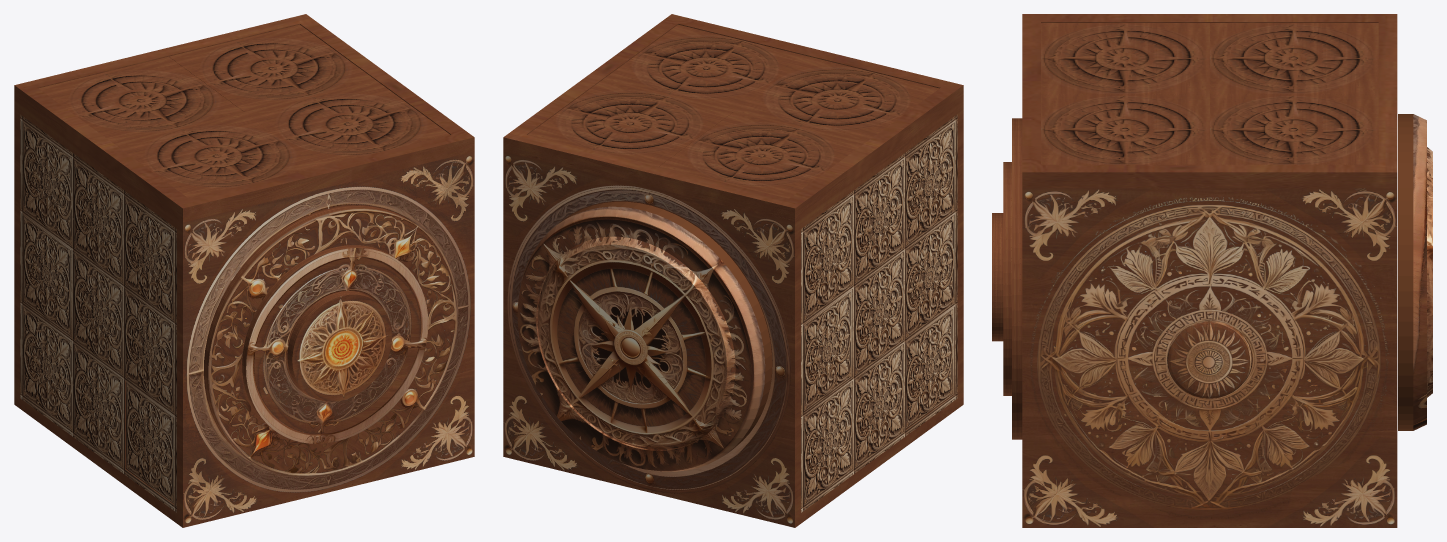
3 renders of one model, left to right at view 1: azimuth 30°, elevation 25°; view 2: azimuth 150°, elevation 25°; view 3: azimuth 270°, elevation 25°, orthographic. The views are drawn at different scales.
Visible parts, largest first — view 1: box, open31, open32, box1, exit11, exit21, exit31, exit41, open33, open41, open4; view 2: box, open_2, box1, exit31, exit41, exit11, exit21, open41, open4; view 3: box, box1, exit21, exit41, exit11, exit31, open_2, key_1, open31, open32, open33.
Boxes of the visible parts, box(x1,y1,x2,y2) form: box: box(14, 99, 474, 527); open31: box(203, 205, 458, 477); open32: box(242, 245, 428, 443); box1: box(14, 14, 474, 223); exit11: box(169, 24, 374, 111); exit21: box(38, 56, 243, 143); exit31: box(245, 80, 450, 166); exit41: box(114, 112, 318, 198); open33: box(287, 291, 392, 401); open41: box(23, 214, 71, 337); open4: box(125, 381, 173, 503); box: box(503, 100, 963, 527); open_2: box(517, 201, 772, 471); box1: box(503, 14, 963, 223); exit31: box(603, 24, 808, 111); exit41: box(734, 56, 939, 143); exit11: box(527, 80, 732, 166); exit21: box(659, 112, 863, 198); open41: box(803, 289, 852, 412); open4: box(906, 307, 953, 429); box: box(1022, 188, 1397, 527); box1: box(1022, 14, 1397, 188); exit21: box(1209, 23, 1378, 94); exit41: box(1041, 23, 1209, 94); exit11: box(1209, 94, 1378, 164); exit31: box(1041, 94, 1209, 164); open_2: box(1398, 114, 1432, 430); key_1: box(1167, 321, 1251, 398); open31: box(1012, 118, 1022, 439); open32: box(1003, 162, 1011, 395); open33: box(992, 213, 1003, 341).
Size of the model in its own units: 2.02 by 2.09 by 2.35.
Materials: 12 (11 with a texture image).
